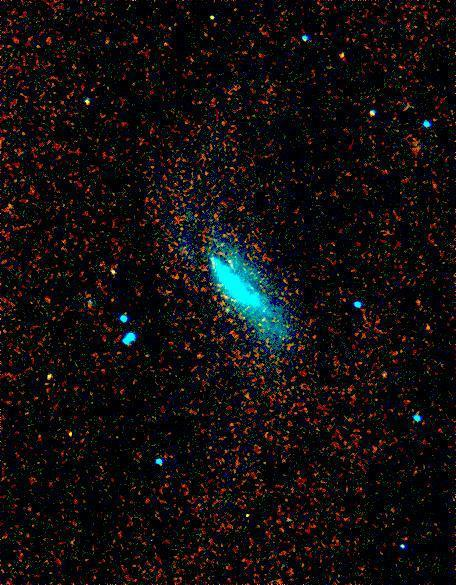star: (370, 355, 400, 385)
